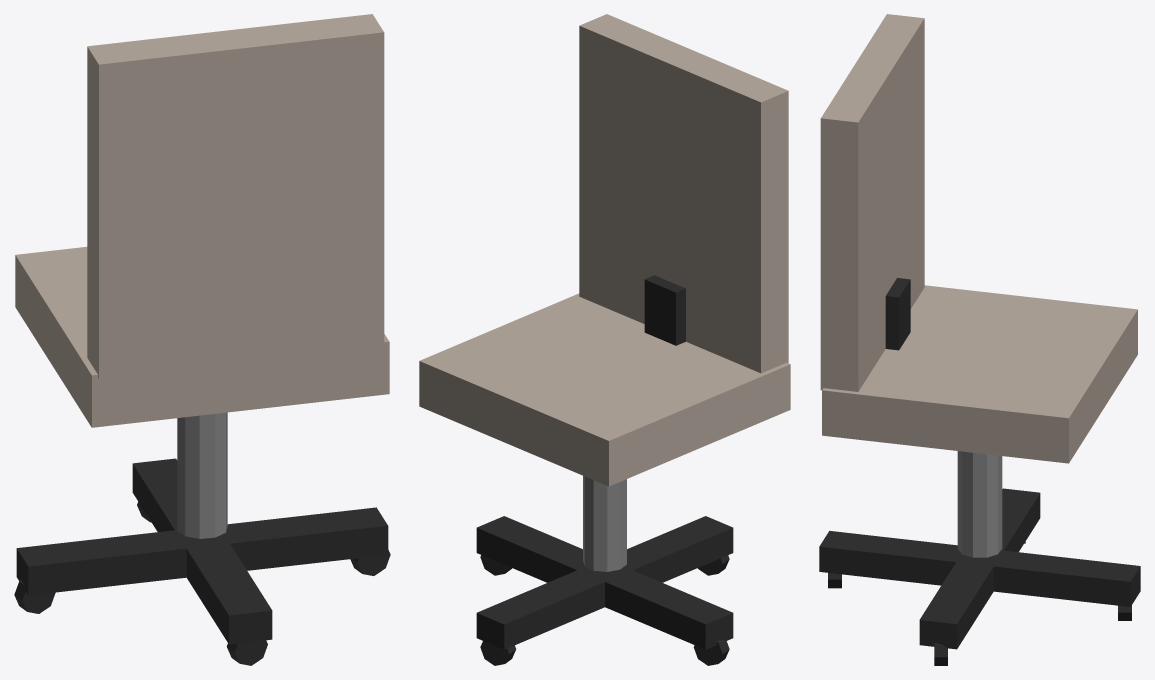
3 renders of one model, left to right at view 1: azimuth 30°, elevation 25°; view 2: azimuth 150°, elevation 25°; view 3: azimuth 270°, elevation 25°, orthographic. The views are drawn at different scales.
Parts seen in each view (by area): view 1: silla_of1; view 2: silla_of1; view 3: silla_of1.
Boxes of the visible parts, x1,y1,x2,y2 form: silla_of1: (14, 14, 390, 665); silla_of1: (419, 14, 790, 665); silla_of1: (819, 14, 1140, 665).
Size of the model in its own units: 0.5827 by 0.5784 by 1.04.
